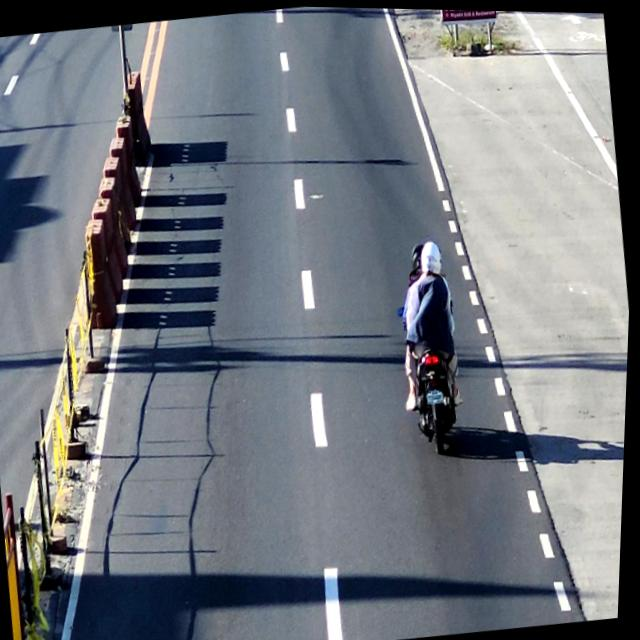License-Plate: (426, 384, 450, 405)
Motorcycle: (391, 240, 476, 459)
